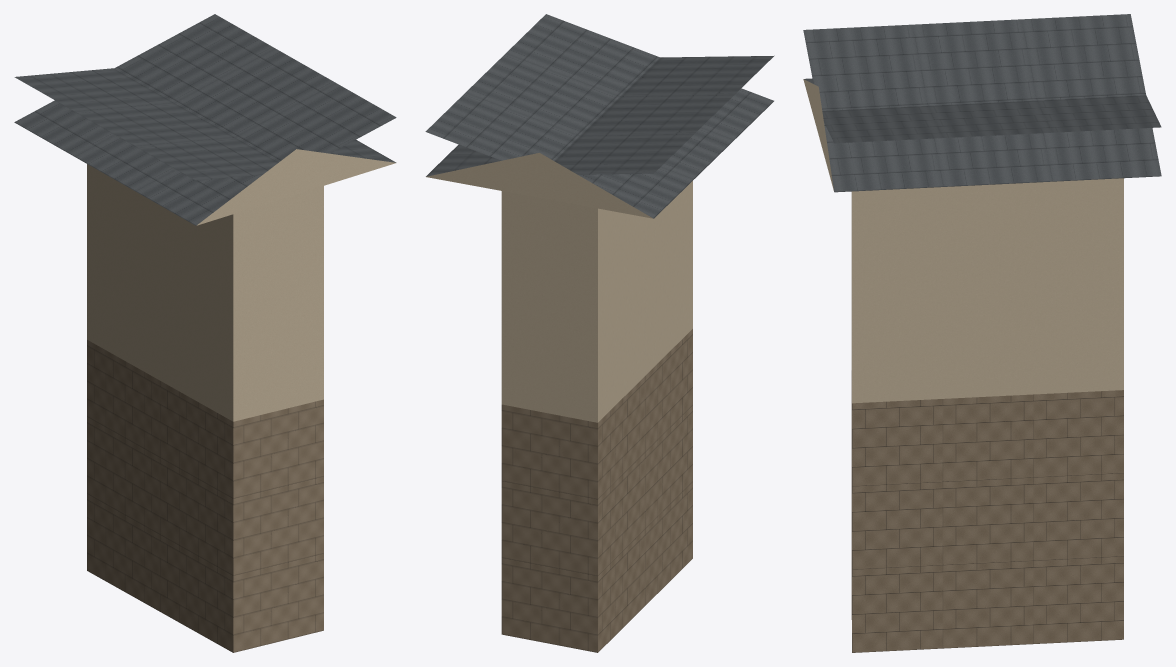
Rendered from bld_c-1_1_533.gltf.
The picture shows the model from 3 angles, left to right: view 1: azimuth 30°, elevation 25°; view 2: azimuth 150°, elevation 25°; view 3: azimuth 270°, elevation 25°; orthographic projection. The views are drawn at different scales.
Parts seen in each view (by area): view 1: bld_c-1_1_533; view 2: bld_c-1_1_533; view 3: bld_c-1_1_533.
Part boxes in pixels (x1,y1,x2,y2): bld_c-1_1_533: (14, 14, 396, 652); bld_c-1_1_533: (425, 14, 774, 652); bld_c-1_1_533: (803, 14, 1161, 652).
Size of the model in its own units: 5.67 by 11.1 by 6.63.
4 materials, 4 textured.
